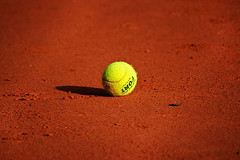tennis ball: (101, 60, 140, 98)
